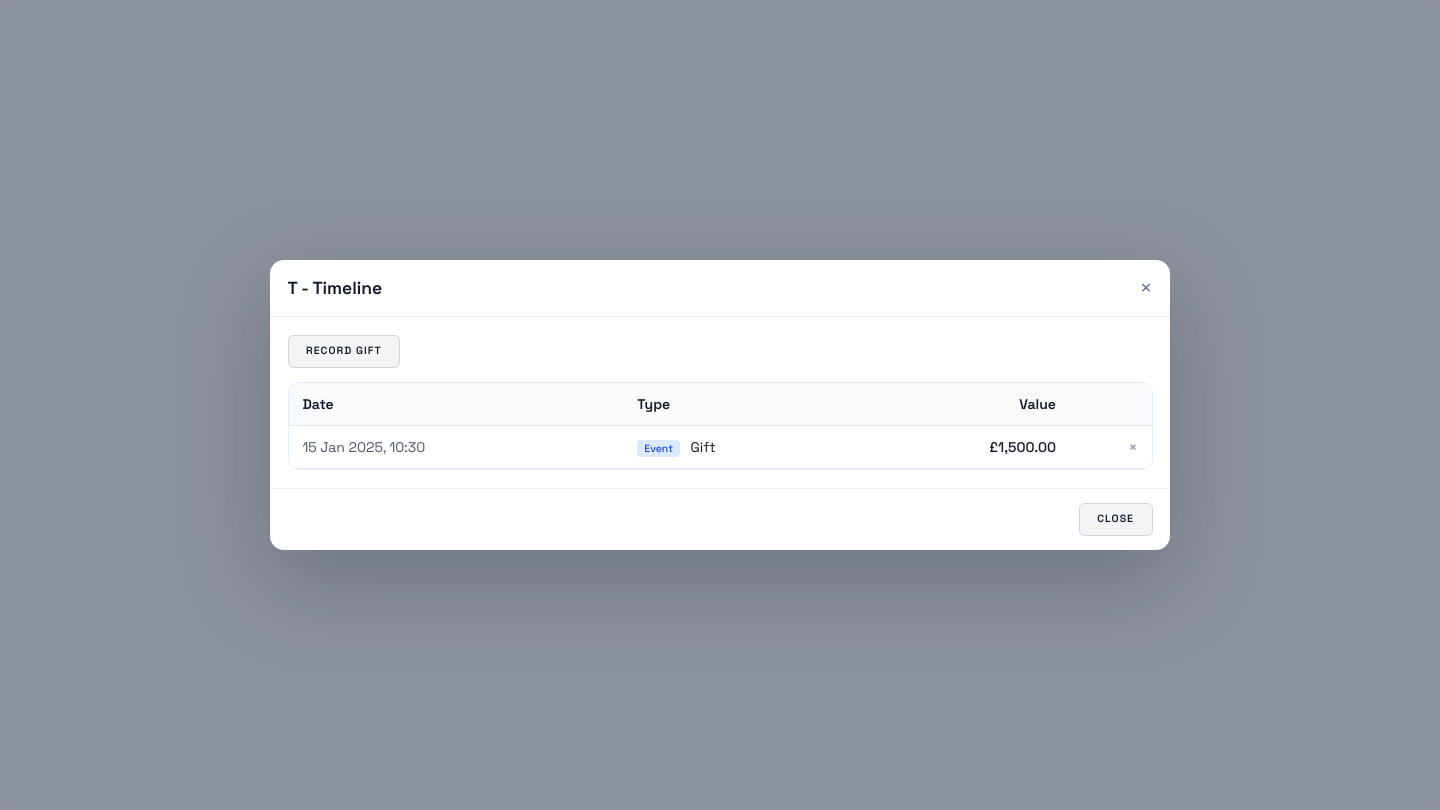
AccountEventsModal – additional function coverage › cancelDeleteGift › hides confirm dialog when Cancel clicked
Click the button titled "Delete gift" in the row of "15 Jan 2025, 10:30": x=1133, y=446 [1129,440,1138,454]
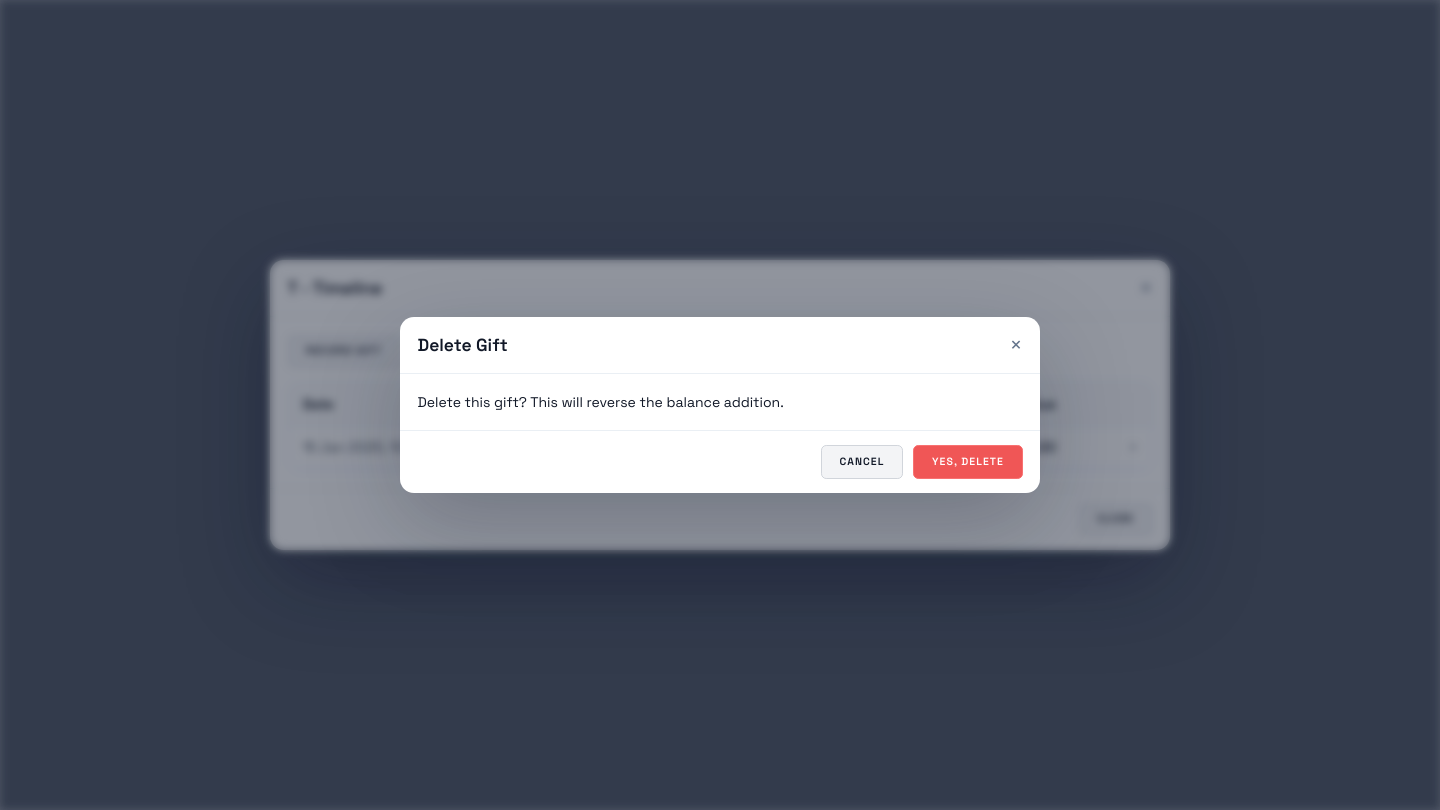
Expected: the text "Delete this gift?" is shown, [418,393,784,411]
Click the button "Cancel": x=862, y=462 [821,445,903,479]
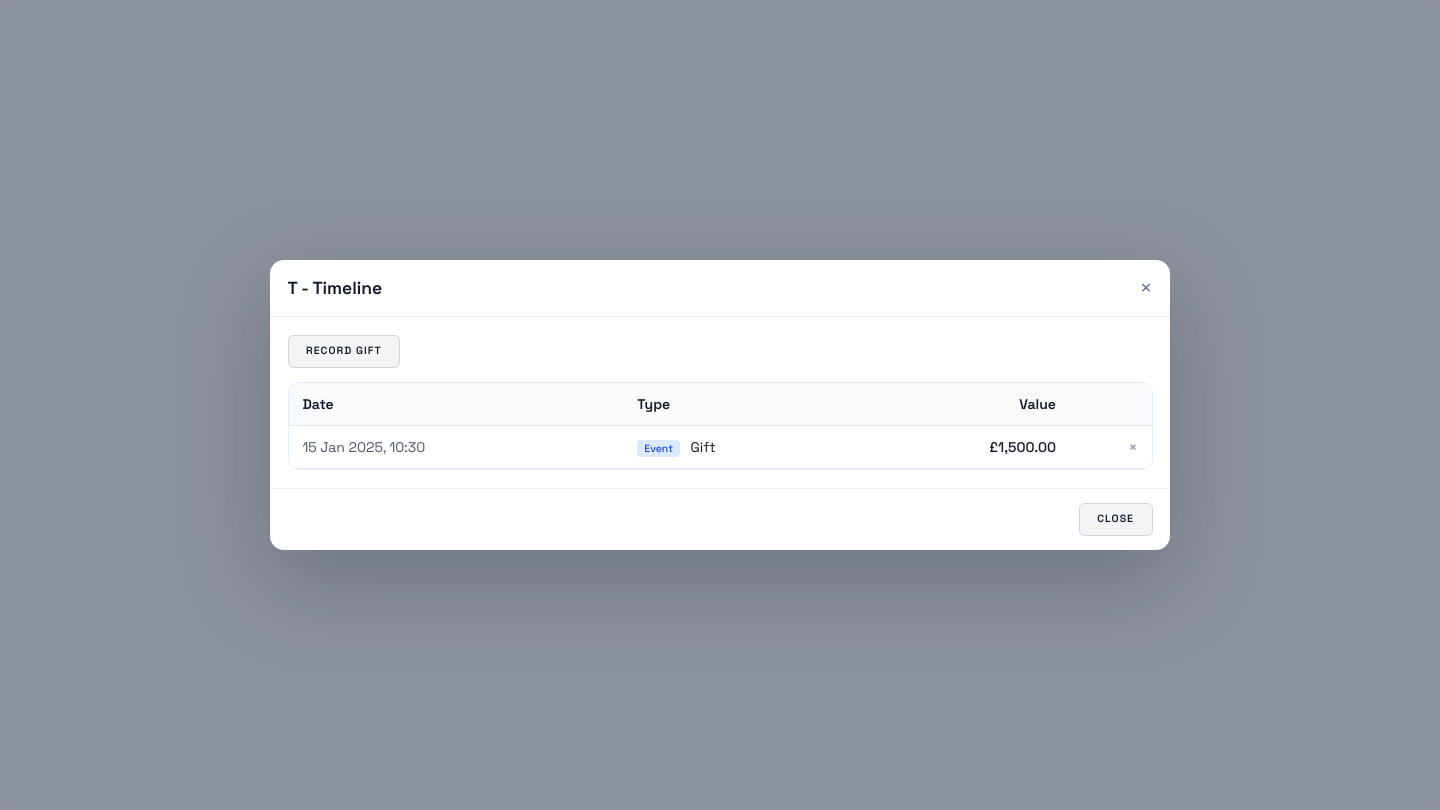
Expected: the text "Delete this gift?" is gone
